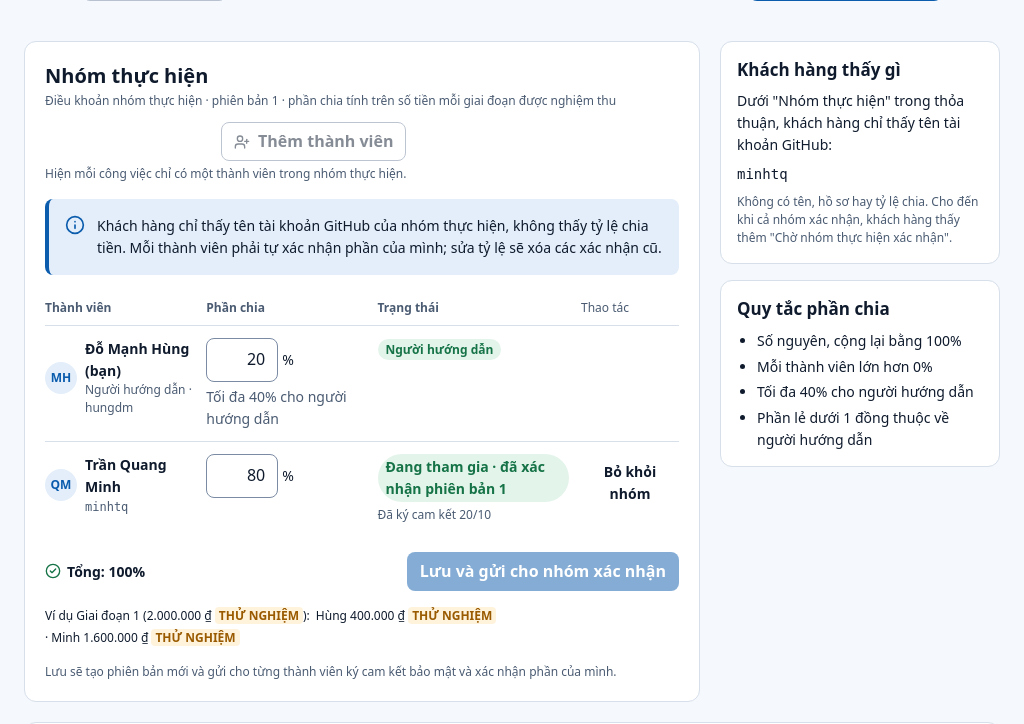
it: JOB-6 for the Mentor: the Crew panel (FR-75, UX-DR60) › asks before clearing confirmations, and reloads the panel when it was stale
(page scrolled)
Check: the text "Đang tham gia · đã xác nhận phiên bản 1" is shown, box [378,454,569,502]
Check: the text "Đã ký cam kết 20/10" is shown, box [378,506,491,524]
Replace the text in the field named "Phần của Đỗ Mạnh Hùng, phần trăm" with "30". click: {"x": 242, "y": 360}
box: [206,338,278,382]
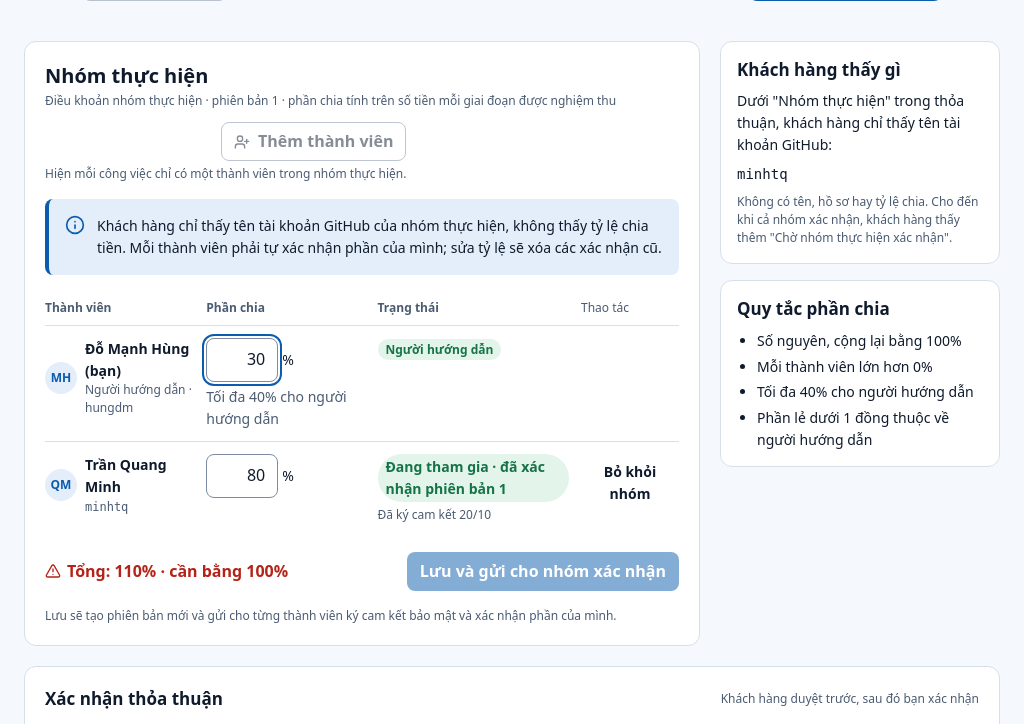
Replace the text in the field named "Phần của Trần Quang Minh, phần trăm" with "70". click: {"x": 242, "y": 476}
box: [206,454,278,498]
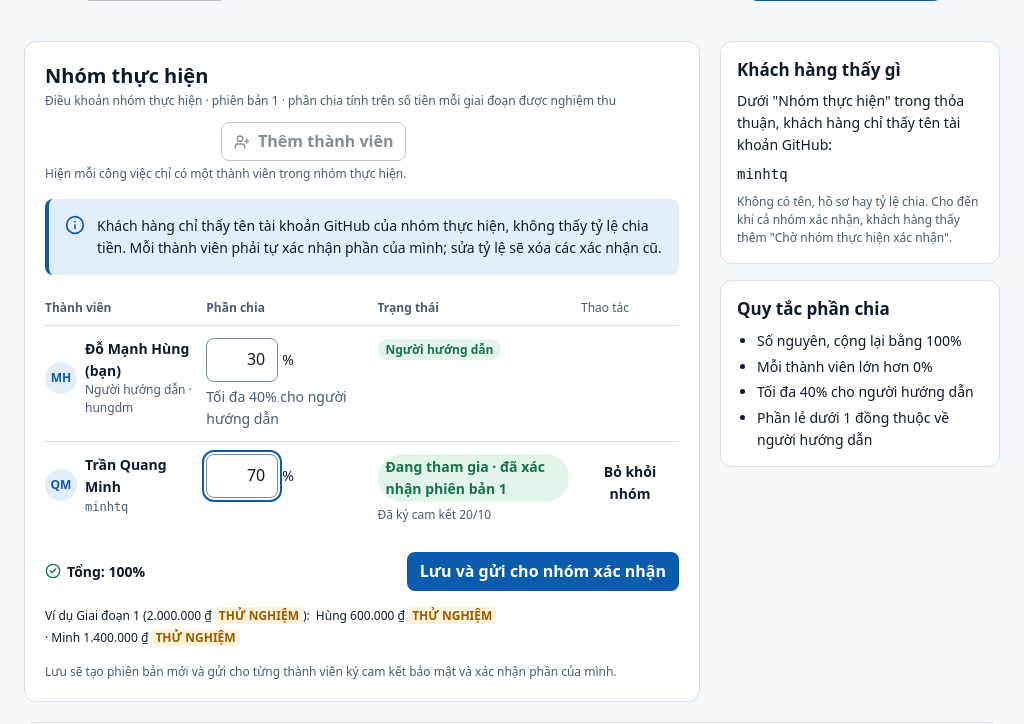
Click the button "Lưu và gửi cho nhóm xác nhận". click: {"x": 543, "y": 571}
box: [407,552,679,591]
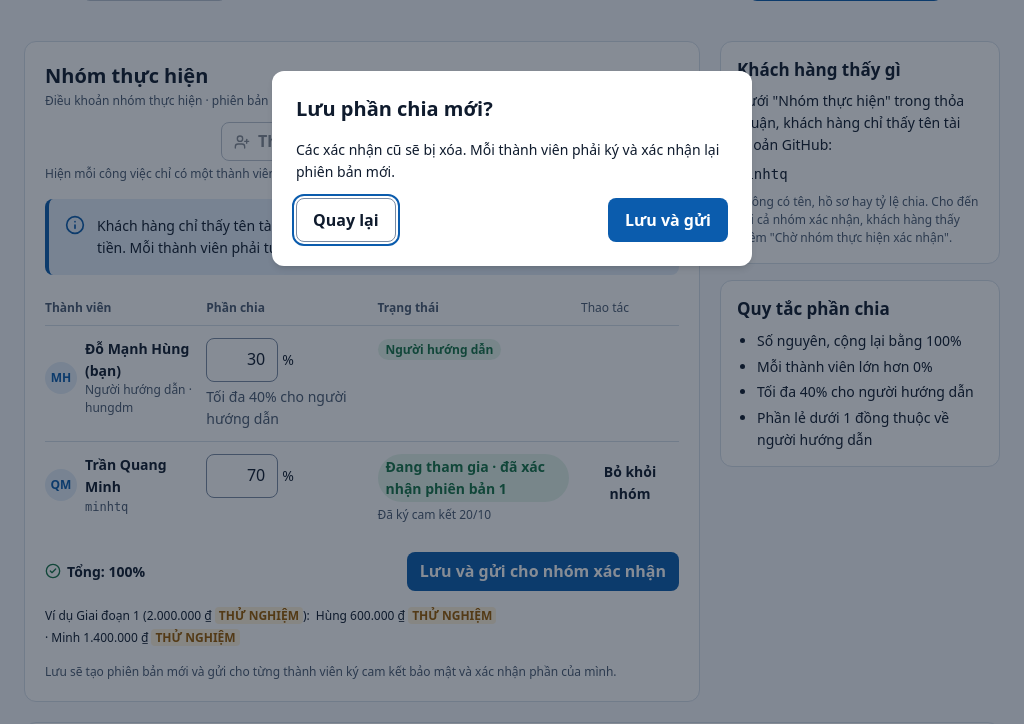
Click the button "Lưu và gửi". click: {"x": 668, "y": 220}
box: [608,198,728,242]
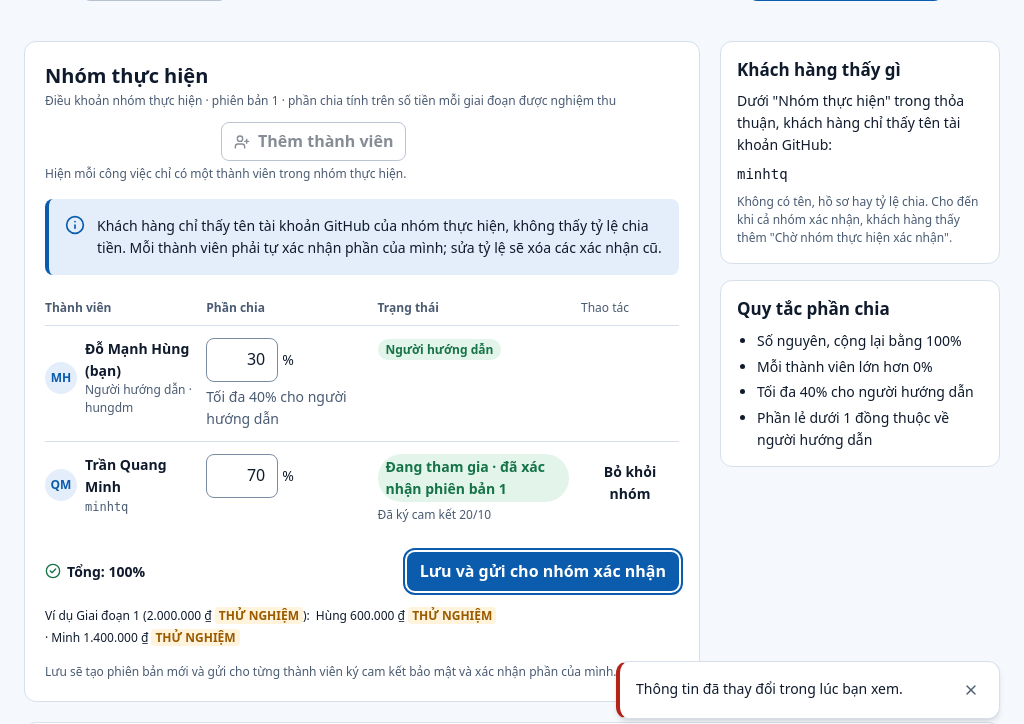
Check: the heading "Thông tin đã thay đổi trong lúc bạn xem." is shown, box [636,678,947,700]
